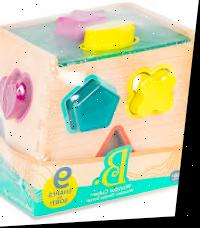cube: (0, 1, 199, 223)
